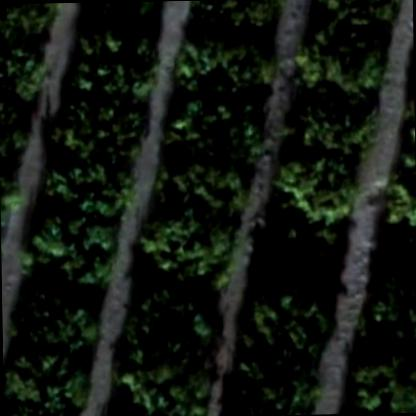Canopy-Citrus: (105, 291, 223, 372), (290, 14, 390, 102), (234, 288, 334, 368), (20, 207, 118, 288), (172, 30, 276, 106), (160, 94, 269, 166), (46, 80, 149, 156), (272, 148, 360, 232), (41, 141, 135, 217), (134, 221, 234, 291), (4, 284, 99, 354), (290, 88, 380, 158), (150, 162, 249, 224), (72, 25, 159, 93), (3, 351, 92, 415), (226, 356, 322, 415), (343, 342, 415, 414), (109, 366, 210, 415), (364, 263, 415, 355), (301, 0, 405, 38), (374, 174, 416, 256), (188, 0, 288, 33), (0, 2, 60, 55), (0, 48, 44, 112), (85, 1, 163, 32), (393, 96, 415, 190), (0, 108, 28, 170)
